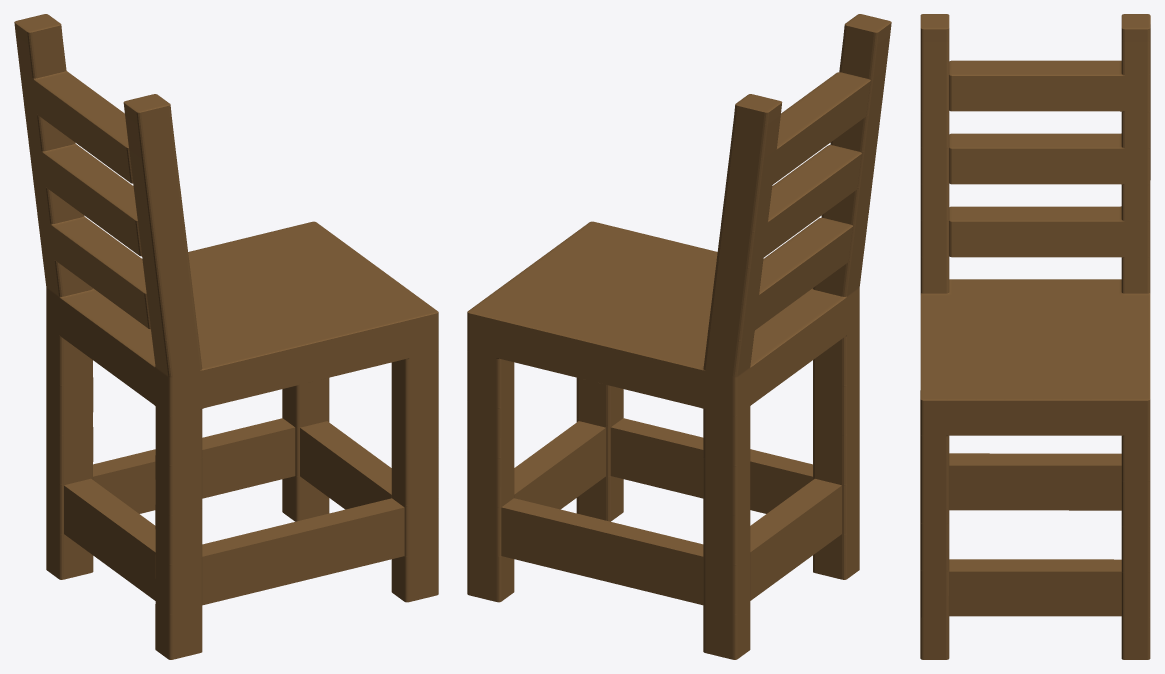
The model's file is Wooden chair.fbx.
3 views of the same model, side by side, from view 1: azimuth 30°, elevation 25°; view 2: azimuth 150°, elevation 25°; view 3: azimuth 270°, elevation 25° (orthographic). The views are drawn at different scales.
Parts seen in each view (by area): view 1: Wooden chair; view 2: Wooden chair; view 3: Wooden chair.
Boxes of the visible parts, x1=… form: Wooden chair: x1=14, y1=14, x2=438, y2=659; Wooden chair: x1=467, y1=14, x2=891, y2=659; Wooden chair: x1=920, y1=14, x2=1150, y2=659.
Size of the model in its own units: 236 by 415 by 169.
